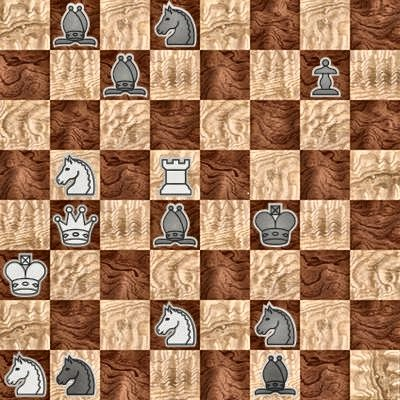black-bishop: (50, 0, 100, 50), (100, 50, 150, 100), (150, 200, 200, 250), (250, 350, 300, 400)
black-king: (250, 200, 300, 250)
black-knight: (150, 0, 200, 50), (250, 300, 300, 350), (50, 350, 100, 400)
black-pawn: (300, 50, 350, 100)
white-king: (0, 250, 50, 300)
white-knight: (50, 150, 100, 200), (150, 300, 200, 350), (0, 350, 50, 400)
white-queen: (50, 200, 100, 250)
white-rook: (150, 150, 200, 200)
